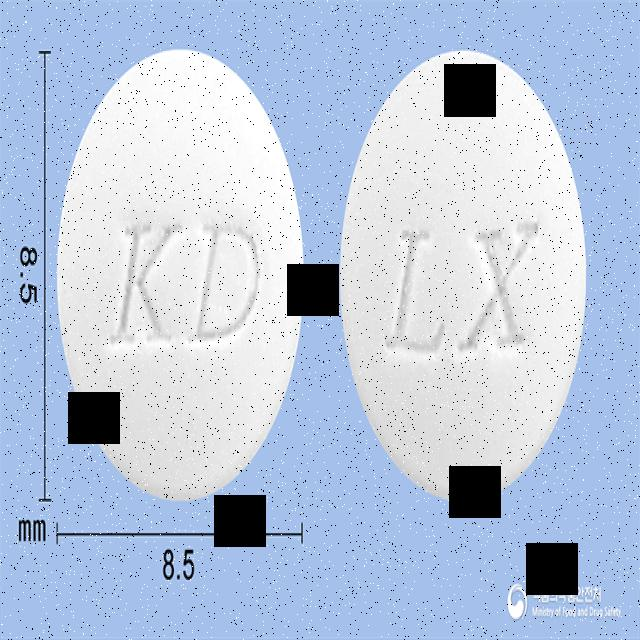Cirok: (57, 48, 307, 504), (340, 49, 587, 500)
